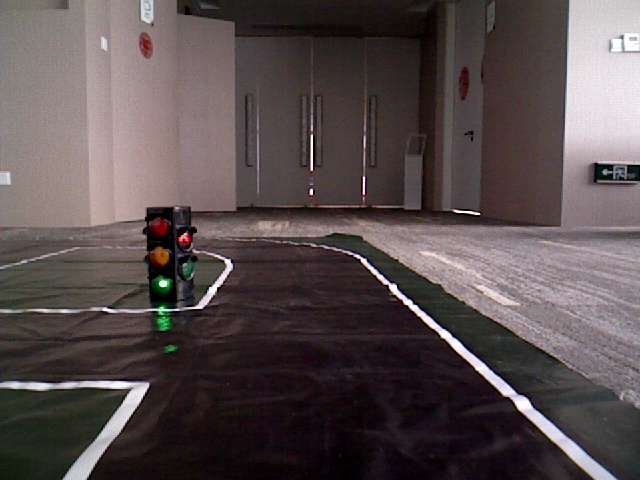green: (142, 208, 179, 298)
